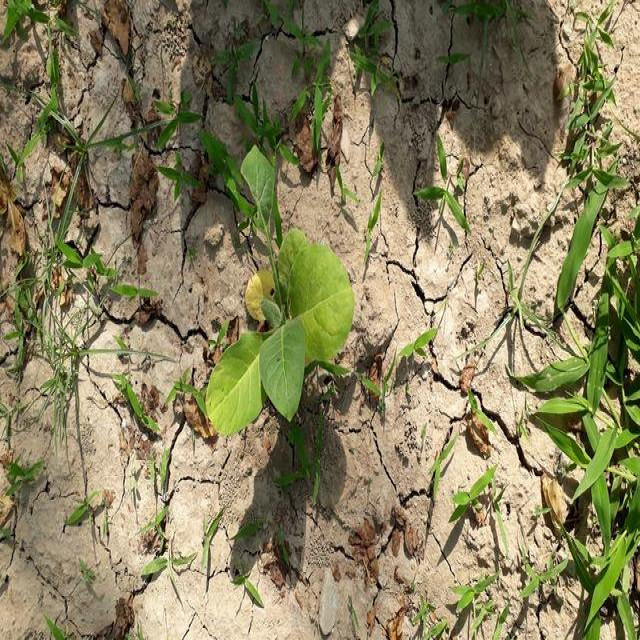crop: (206, 139, 348, 442)
